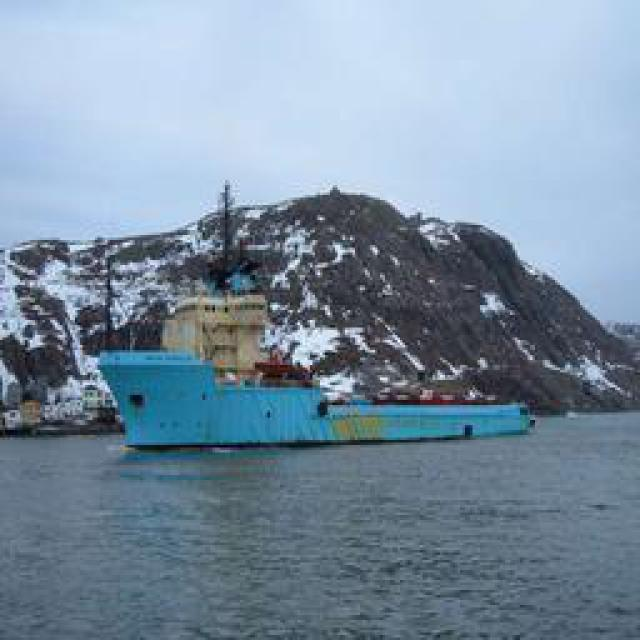Ship: (105, 343, 533, 451)
